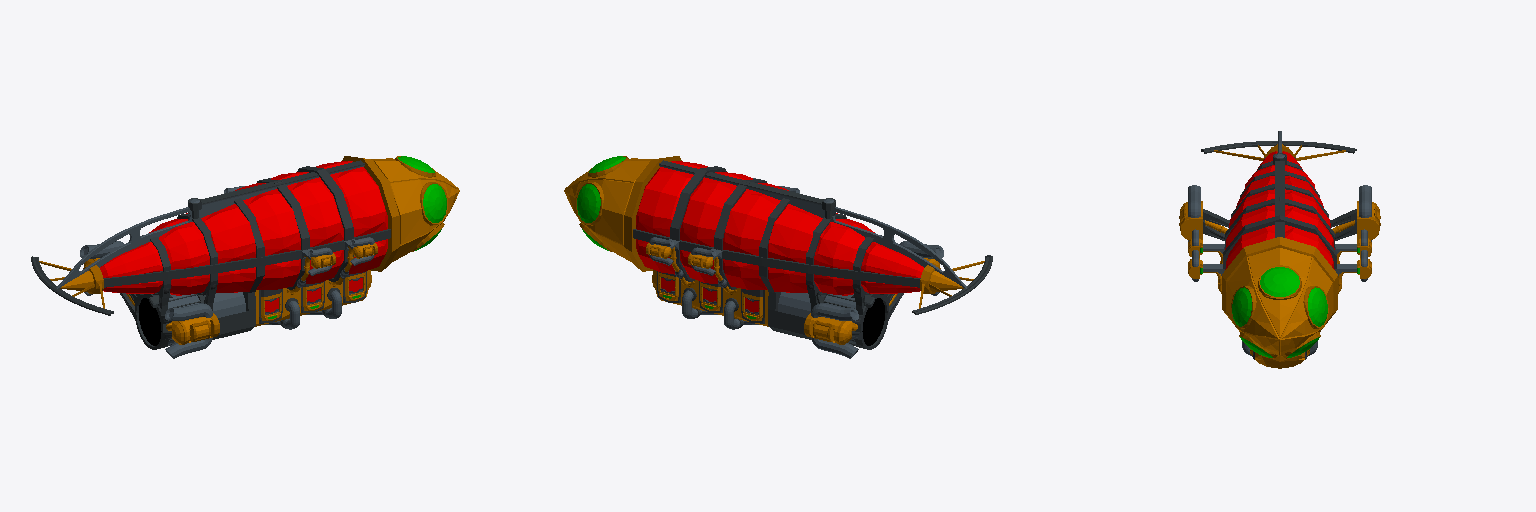
The picture shows the model from 3 angles: view 1: azimuth 30°, elevation 25°; view 2: azimuth 150°, elevation 25°; view 3: azimuth 270°, elevation 25°; orthographic projection.
Visible parts, largest first — view 1: Zeppelin_Sphere; view 2: Zeppelin_Sphere; view 3: Zeppelin_Sphere.
Boxes of the visible parts, box(x1,y1,x2,y2) form: Zeppelin_Sphere: box(31, 156, 459, 358); Zeppelin_Sphere: box(564, 156, 992, 358); Zeppelin_Sphere: box(1179, 131, 1380, 368).
Bounding box in the file's own units: 19.34 × 6.52 × 8.29.
1 materials, 1 textured.